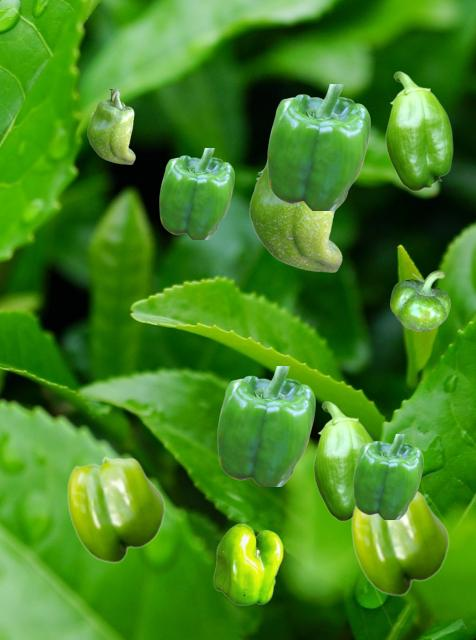bell_pepper: (267, 84, 369, 209), (217, 366, 314, 485), (67, 456, 164, 562), (249, 160, 341, 271), (351, 491, 448, 595), (385, 71, 452, 190), (313, 401, 373, 520), (159, 148, 233, 238), (353, 434, 422, 518), (213, 523, 282, 604), (390, 270, 449, 330), (87, 89, 134, 163)
